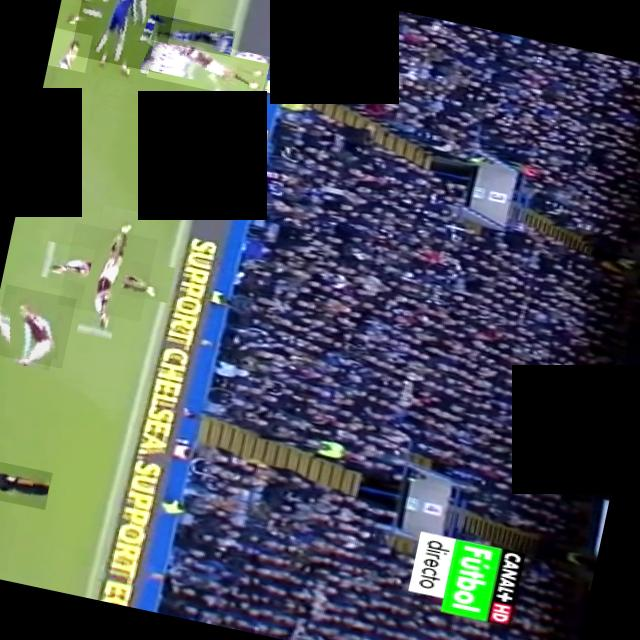referee: (0, 453, 52, 509)
soccer-player: (58, 221, 158, 321), (146, 31, 271, 100), (70, 0, 180, 72), (0, 283, 76, 367), (150, 14, 236, 56), (48, 27, 92, 72)
